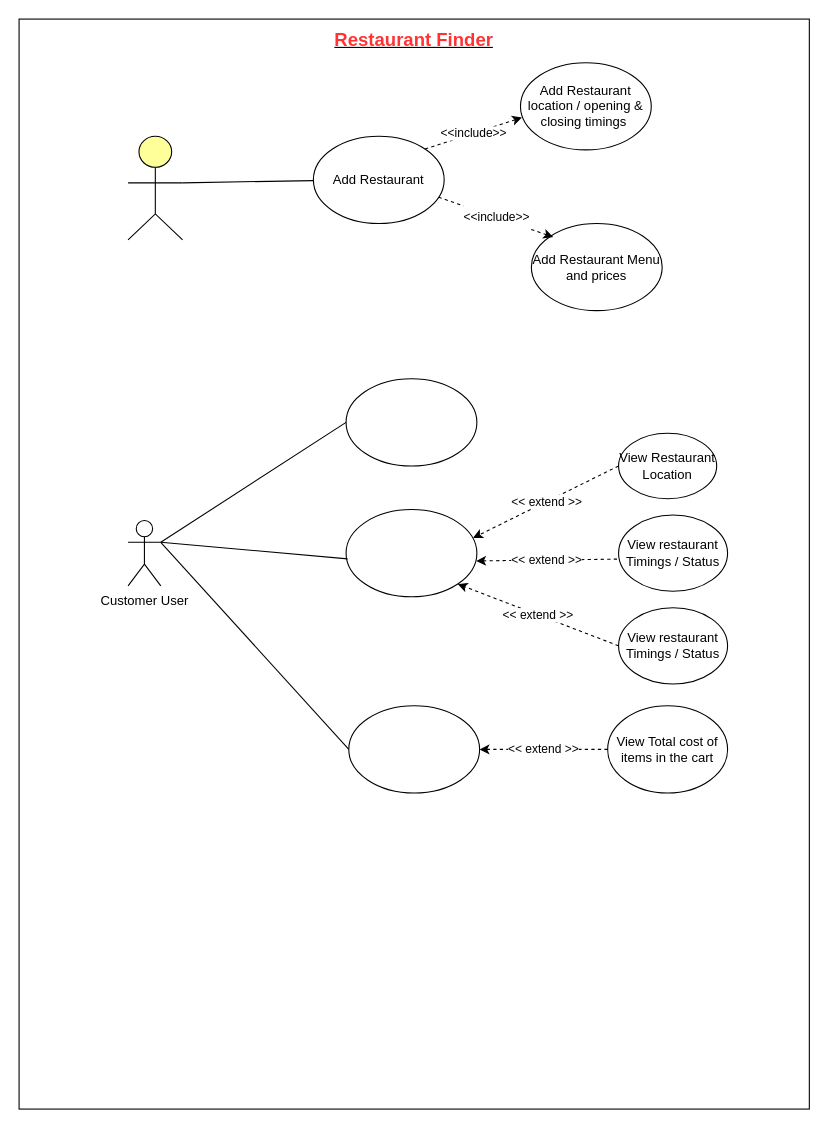
Image size: 828x1128. Some labels were removed from this diagram. Each missing label, with the centre of its shape:
Add / remove Items from cart: point 414,749
Admin: point 155,187
Search a Restaurant: point 411,422
View Restaurant Details: point 411,552
